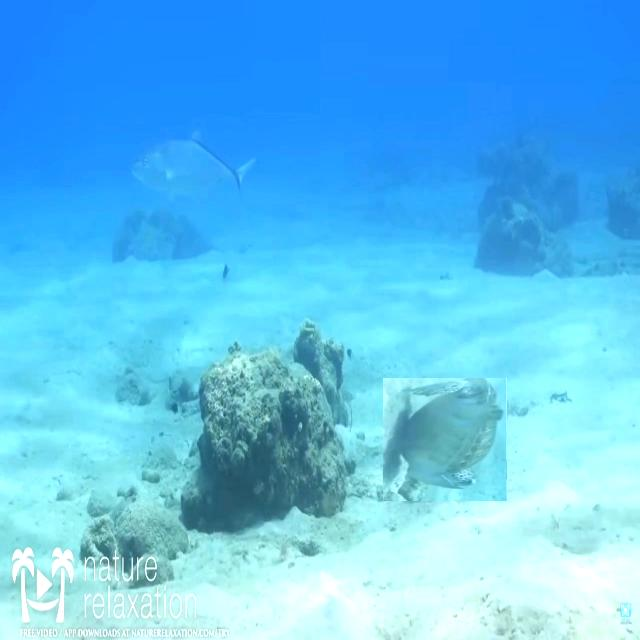Sea turtle: (383, 378, 507, 501)
